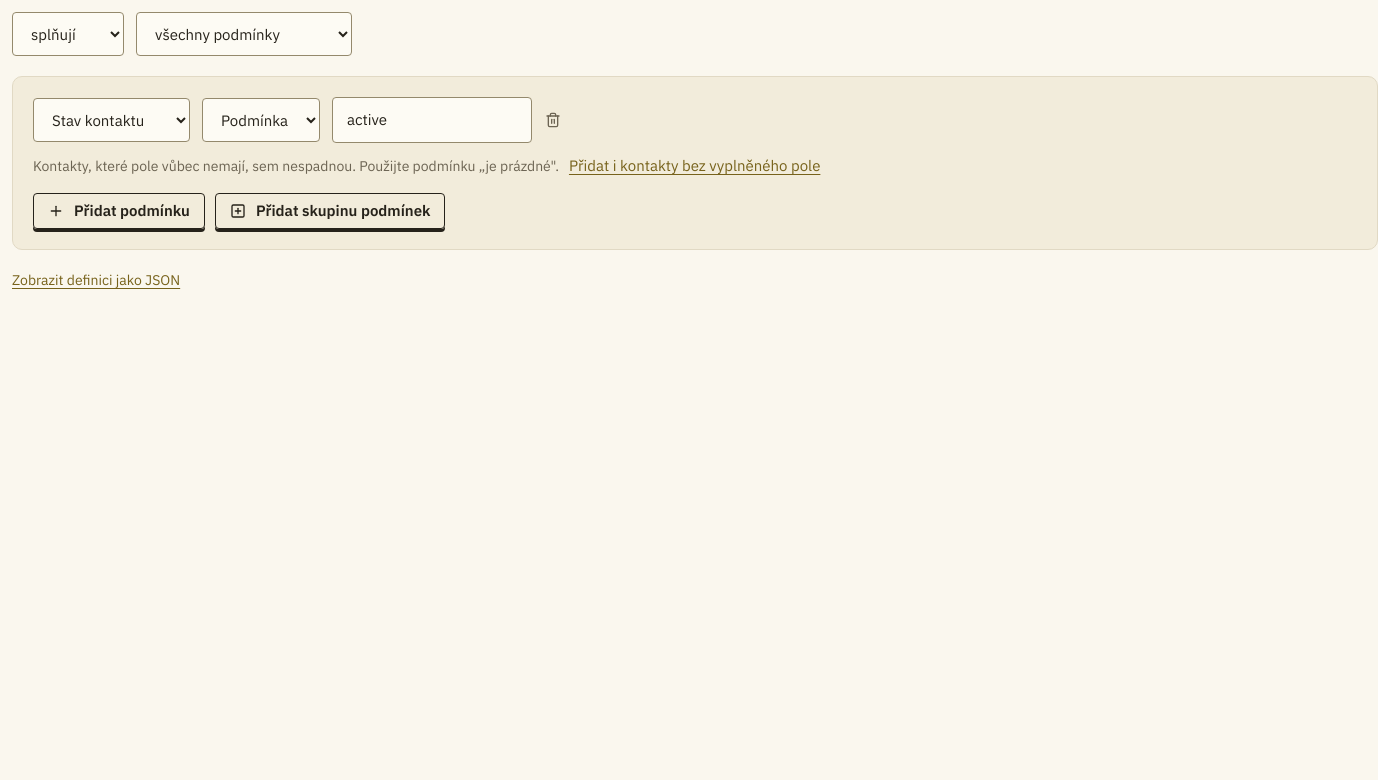
Scenario: K2 query builder conformance › can show the underlying json without making it the default
Expected: the text "\"version\"" is not shown
// Jméno tlačítka se bere z KATALOGU přes labels.showJson, ne natvrdo.
Click the button "Zobrazit definici jako JSON" at coordinates (96, 280), box [12,270,180,290]
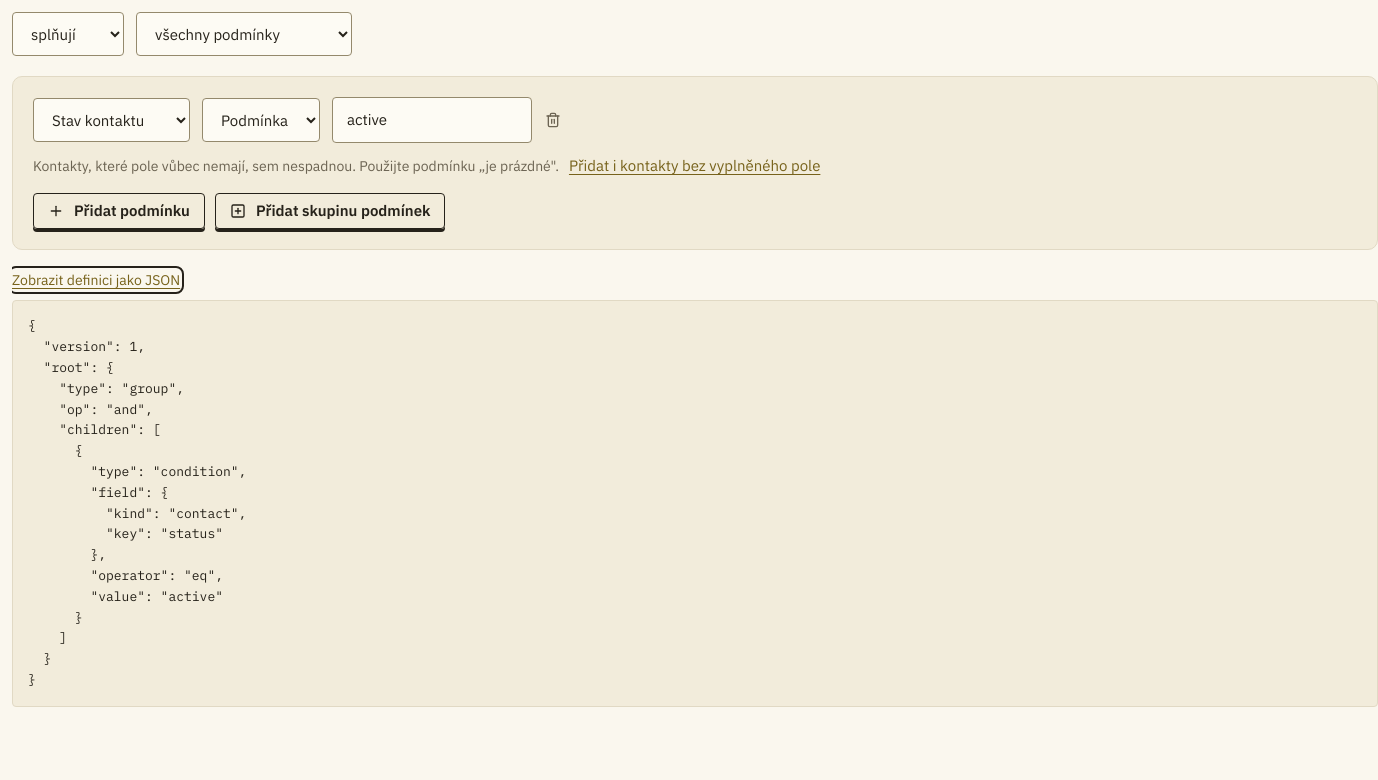
Expected: the text "\"version\"" is shown, [28,317,246,688]
